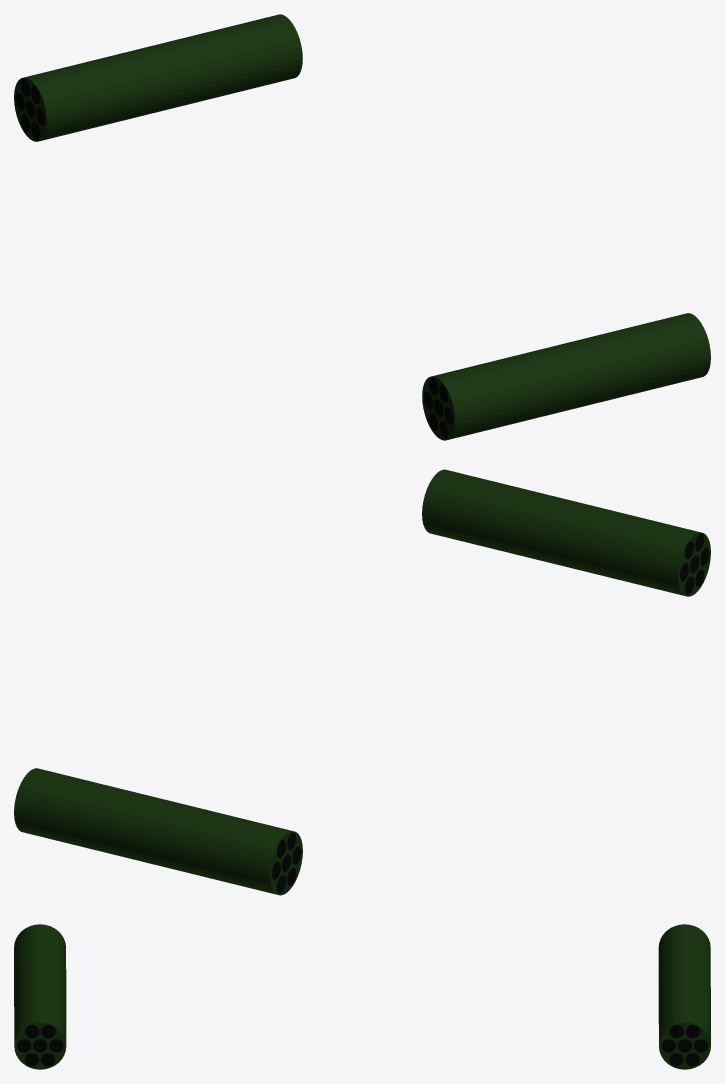
3 views of the same model, one above another, from view 1: azimuth 30°, elevation 25°; view 2: azimuth 150°, elevation 25°; view 3: azimuth 270°, elevation 25° (orthographic). The views are drawn at different scales.
Parts seen in each view (by area): view 1: 円柱.001, 円柱.002; view 2: 円柱.001, 円柱.002; view 3: 円柱.001, 円柱.002.
Part boxes in pixels (bbox=[...]): 円柱.001: bbox=[14, 14, 302, 141]; 円柱.002: bbox=[422, 313, 710, 440]; 円柱.001: bbox=[14, 768, 302, 895]; 円柱.002: bbox=[422, 469, 710, 596]; 円柱.001: bbox=[658, 924, 710, 1069]; 円柱.002: bbox=[14, 924, 66, 1069].
Bounding box in the file's own units: 1.44 × 0.3243 × 4.29.
Materials: 1 (1 with a texture image).
